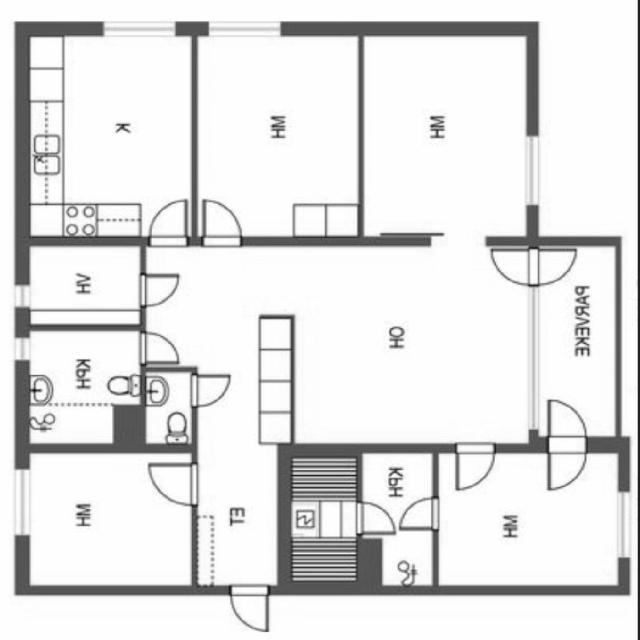door: (541, 394, 592, 495), (488, 243, 580, 290), (144, 457, 204, 512), (196, 192, 249, 254), (141, 193, 193, 251), (449, 439, 500, 495), (226, 583, 274, 637), (133, 269, 186, 309), (185, 370, 236, 411), (135, 328, 183, 370), (394, 494, 444, 534), (352, 498, 397, 539)
window: (142, 367, 196, 450), (92, 14, 186, 45), (518, 127, 548, 214), (200, 15, 289, 43), (8, 462, 38, 545), (613, 484, 637, 566), (9, 331, 38, 370), (9, 278, 35, 316)
zone: (294, 240, 533, 451), (358, 29, 536, 238), (193, 29, 365, 239), (26, 27, 198, 235), (427, 447, 637, 594), (14, 449, 201, 590), (287, 450, 433, 586), (23, 326, 145, 451), (20, 240, 145, 330), (142, 368, 196, 450), (372, 531, 436, 592)
